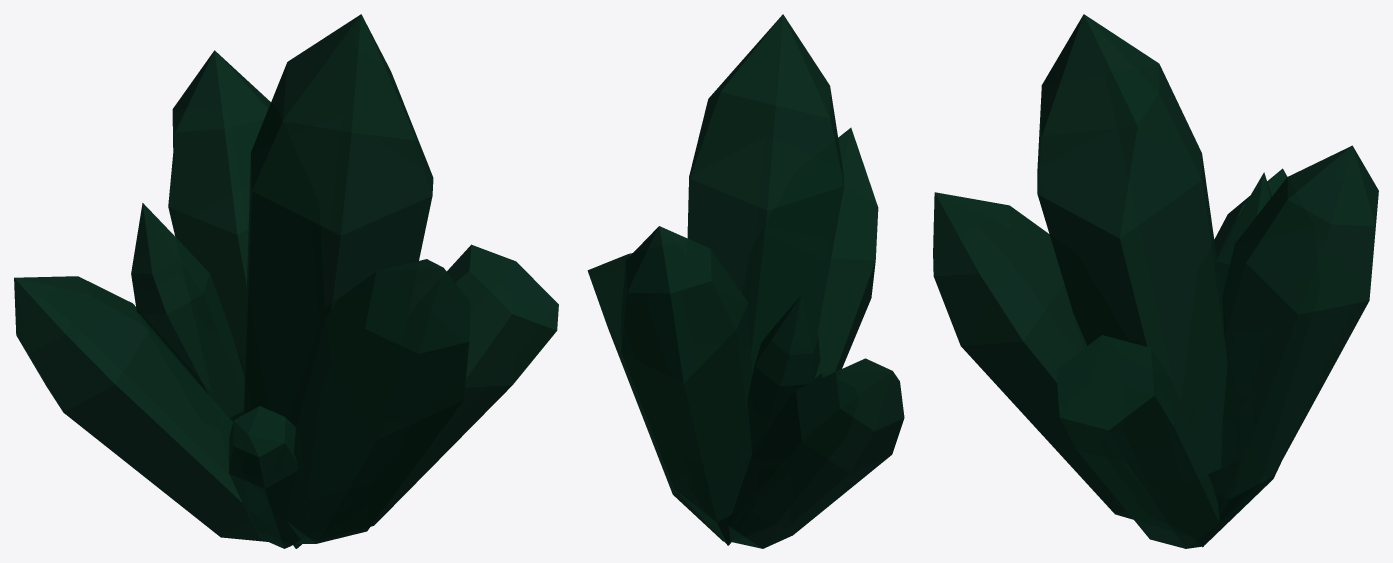
The model's file is kristal3.fbx.
The picture shows the model from 3 angles, left to right: view 1: azimuth 30°, elevation 25°; view 2: azimuth 150°, elevation 25°; view 3: azimuth 270°, elevation 25°; orthographic projection. The views are drawn at different scales.
Parts seen in each view (by area): view 1: pCone32; view 2: pCone32; view 3: pCone32.
Part boxes in pixels (bbox=[...]): pCone32: bbox=[14, 14, 558, 548]; pCone32: bbox=[587, 14, 904, 548]; pCone32: bbox=[933, 14, 1378, 548].
Size of the model in its own units: 4.9 by 6.06 by 4.6.
